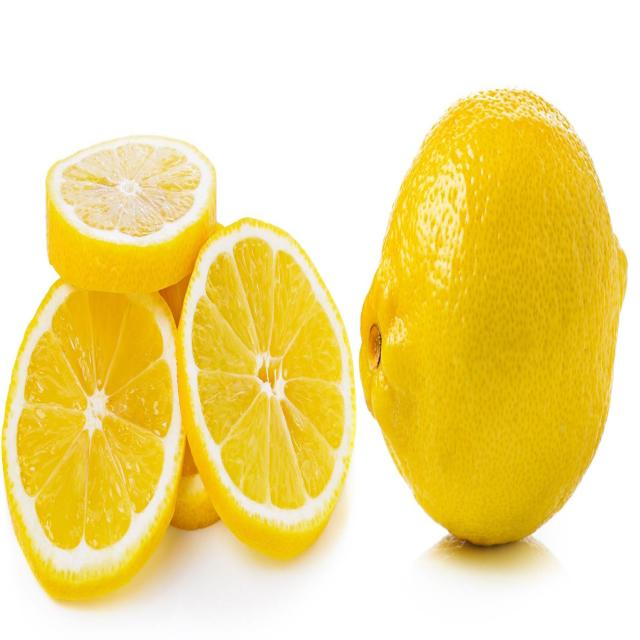lemon: (0, 123, 364, 616), (356, 80, 632, 557)
